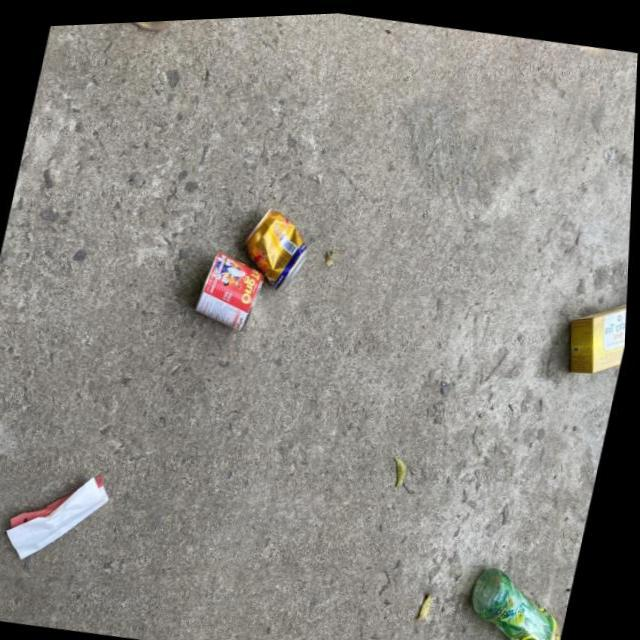clothes: (177, 225, 290, 346), (245, 150, 329, 280)
food: (0, 427, 132, 578)
leaf: (470, 540, 585, 640), (122, 16, 190, 33)
trash: (548, 276, 630, 381)
